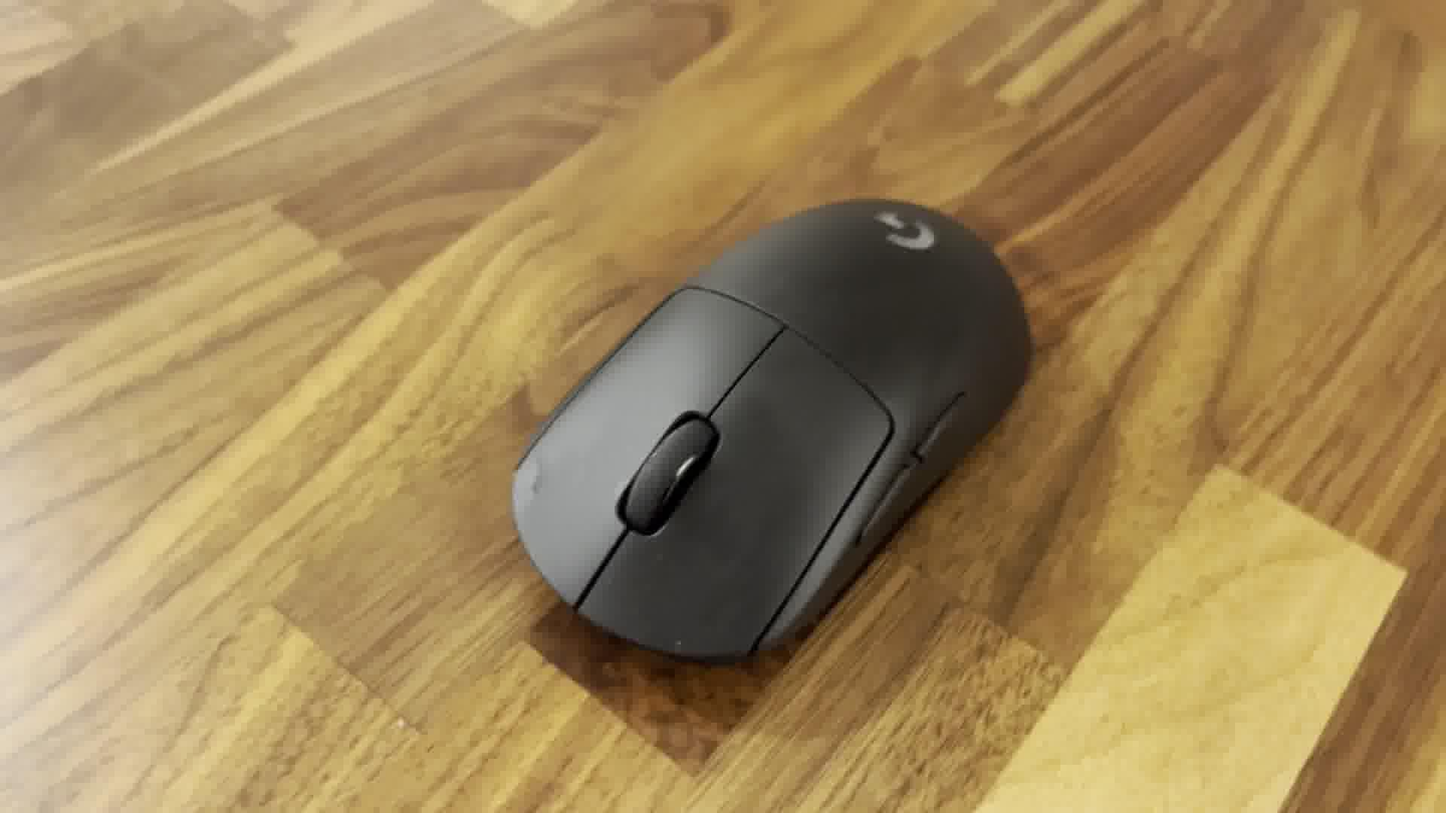logicool: (504, 194, 1035, 663)
